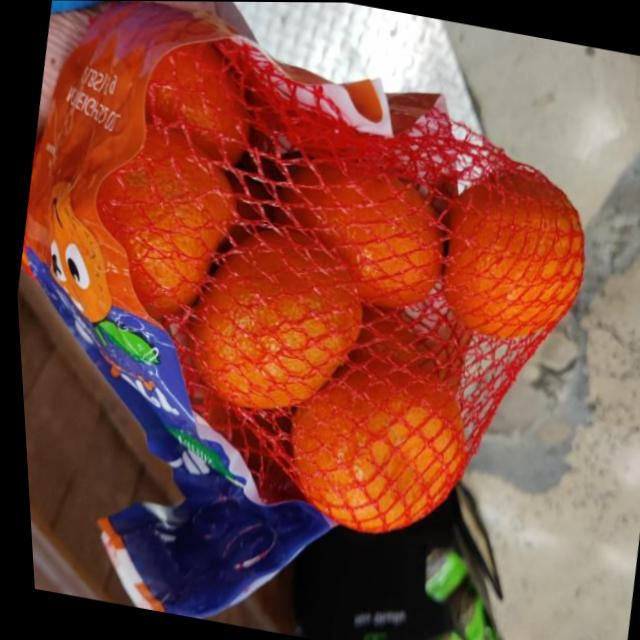Oranges: (0, 6, 623, 558)
